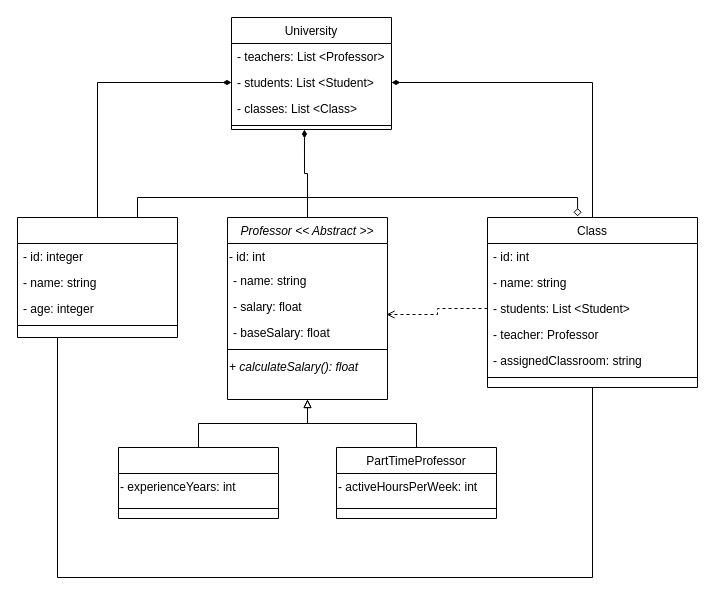
Image size: 715x596. Some labels were removed from this diagram. Each missing label, with the box of its shape:
FullTimeProfessor: (118, 446, 278, 518)
Student: (16, 216, 178, 338)
